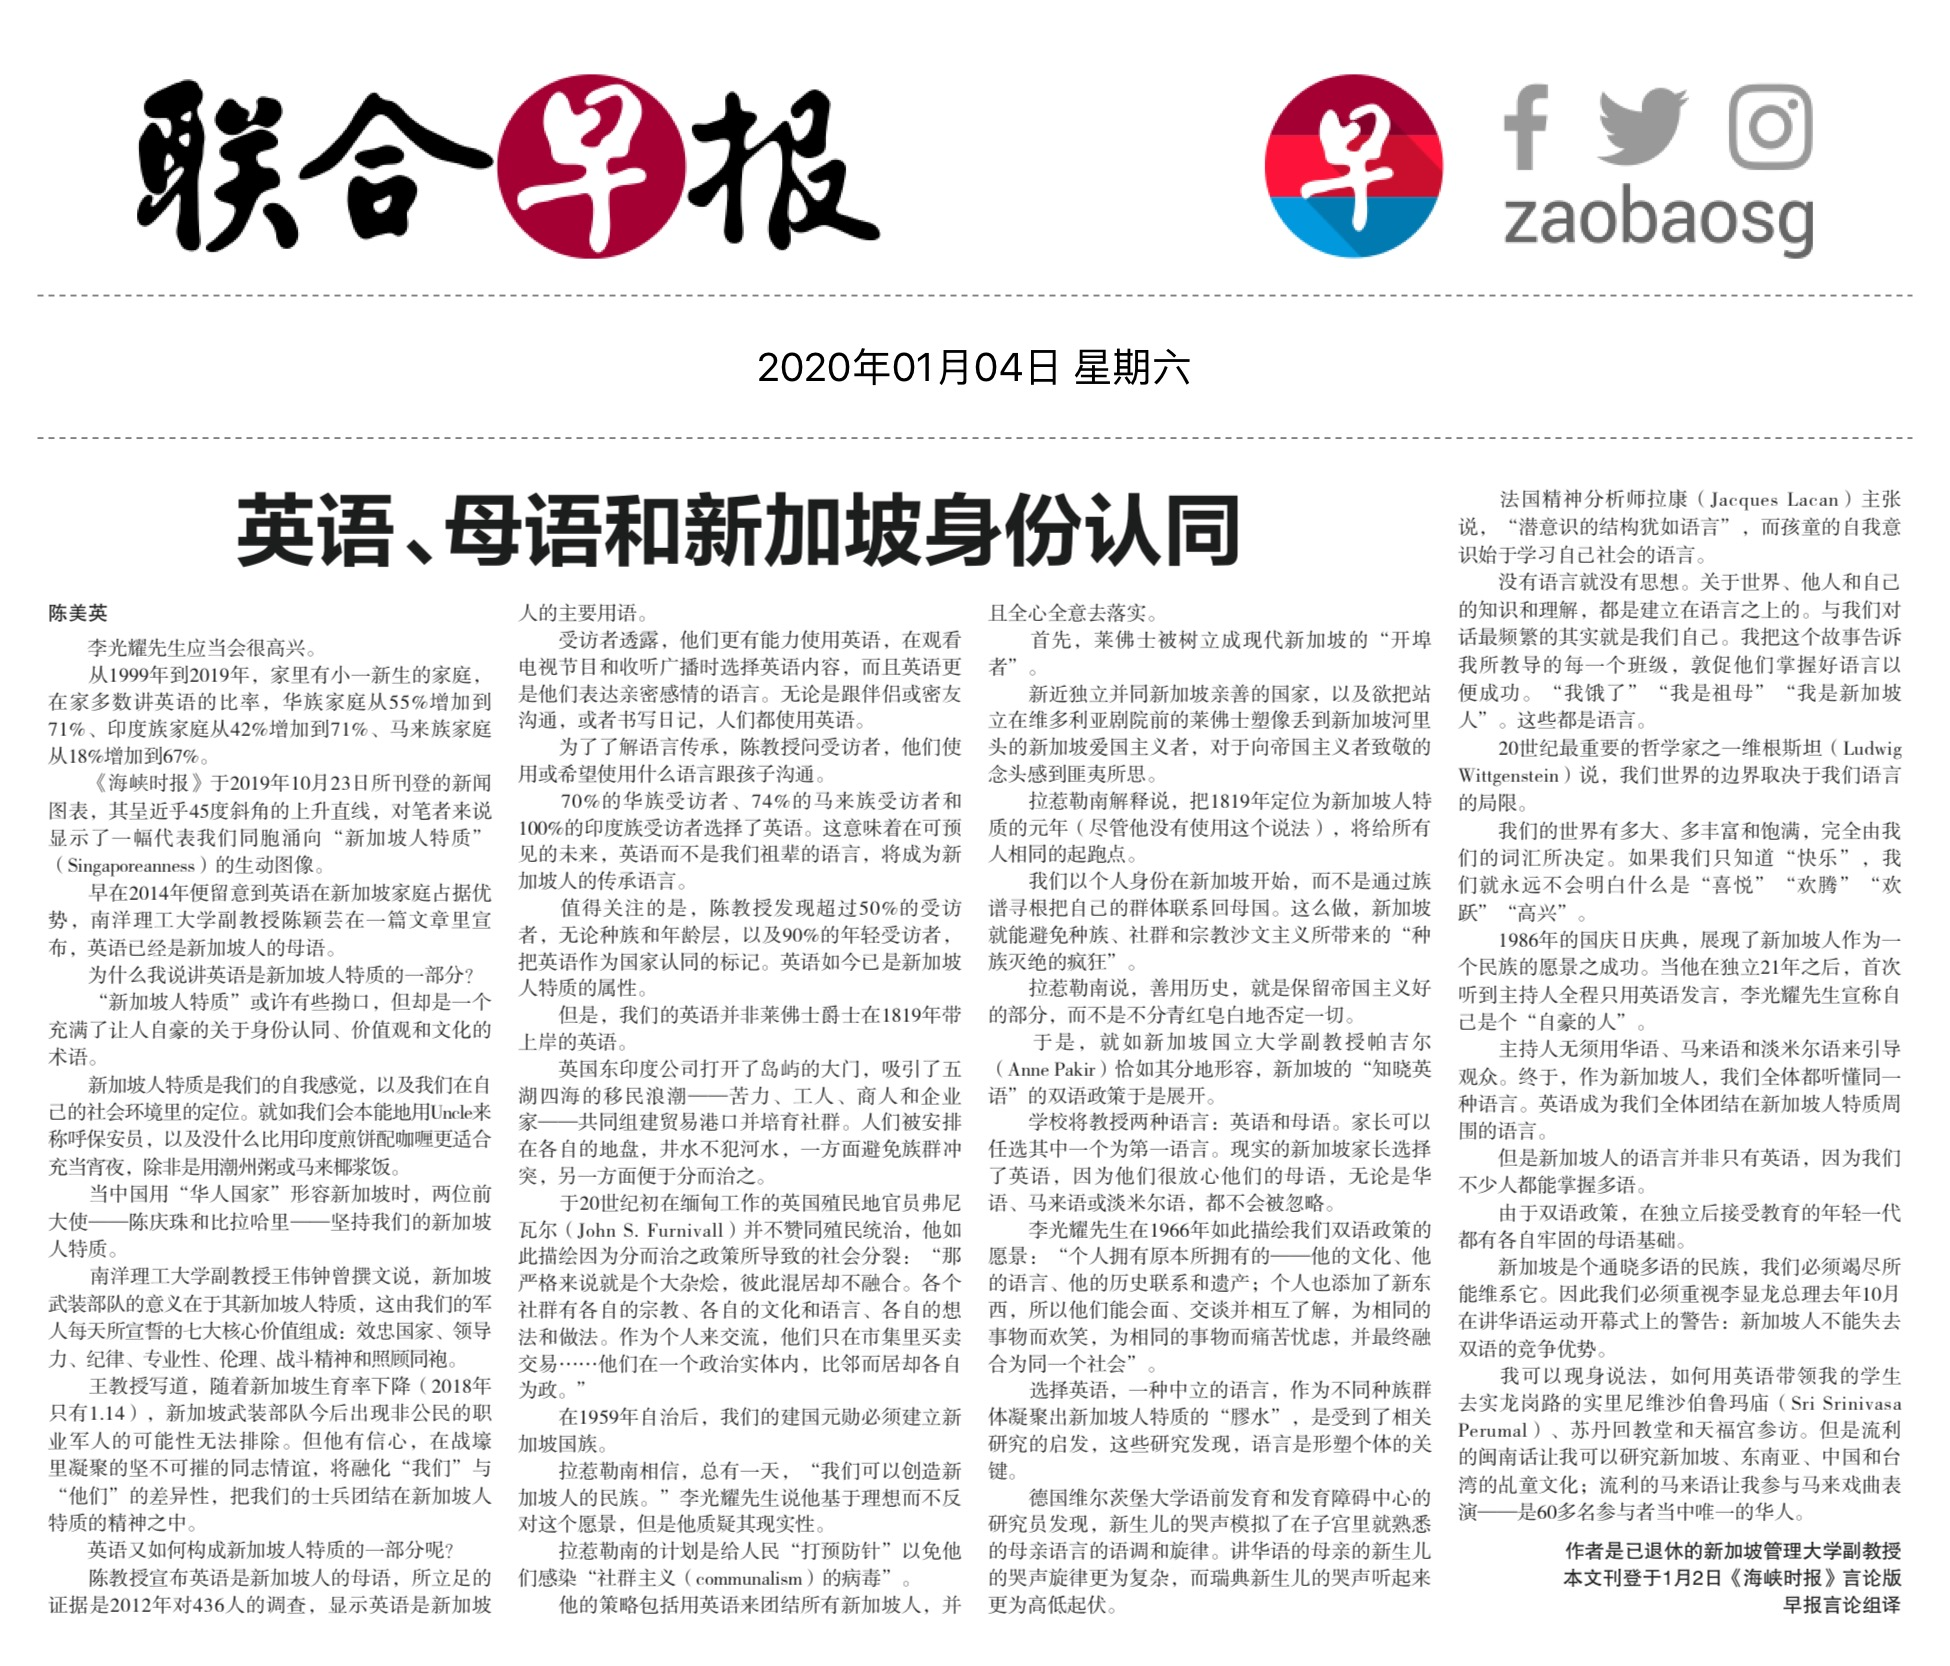heading: (228, 478, 1249, 575)
